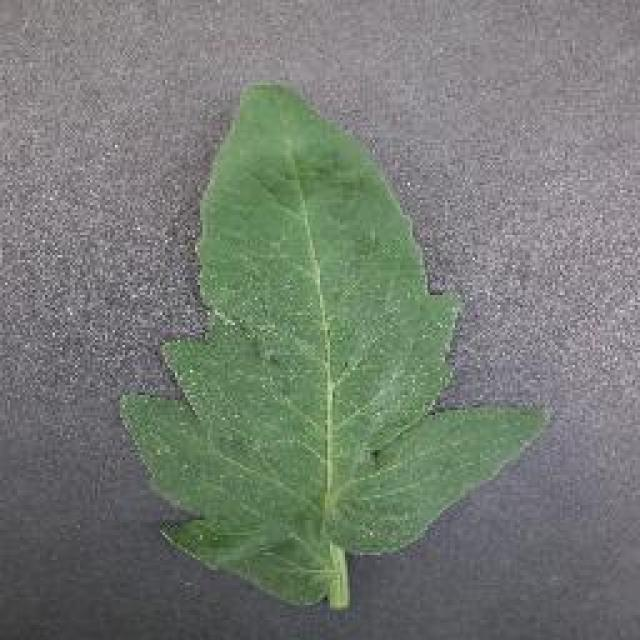Tomato_Healthy: (112, 66, 549, 600)
